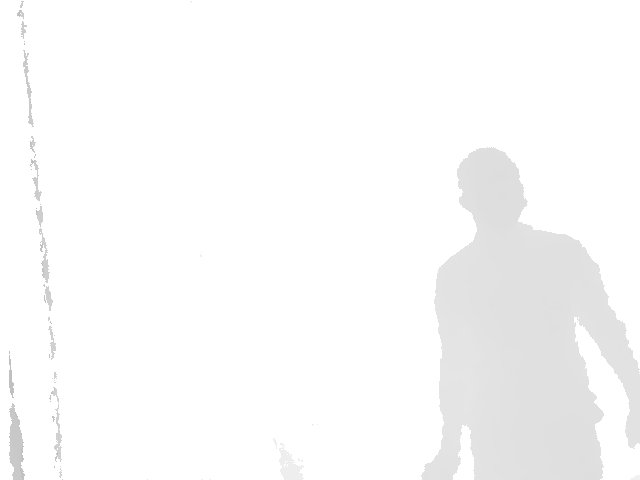head: (455, 147, 528, 227)
person: (420, 147, 640, 480)
